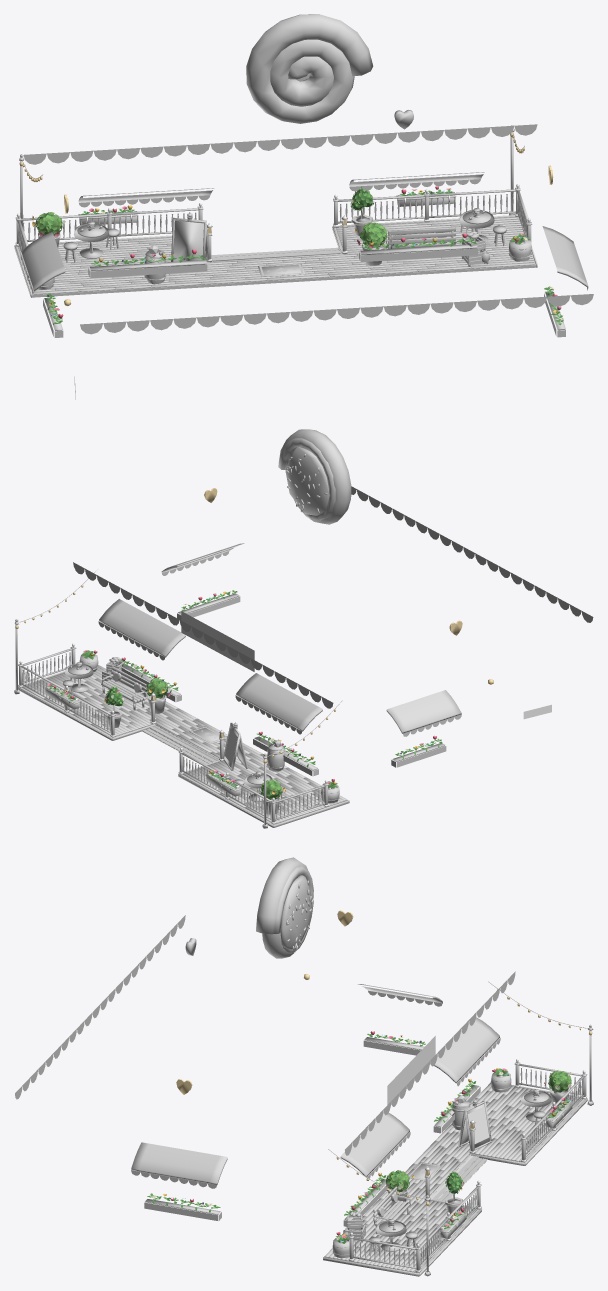
The model's file is zon_bakery_lite.glb.
3 renders of one model, top to bottom at view 1: azimuth 30°, elevation 25°; view 2: azimuth 150°, elevation 25°; view 3: azimuth 270°, elevation 25°, orthographic. The views are drawn at different scales.
Parts seen in each view (by area): view 1: SM_zon_bakery_lite_kit_bakery_xm1_z1, SM_zon_bakery_lite_vc_palette_xm1_z1, SM_zon_bakery_lite_kit_bakery_gloss_xm1_z1; view 2: SM_zon_bakery_lite_kit_bakery_xm1_z1, SM_zon_bakery_lite_vc_palette_xm1_z1, SCREEN_bld_bakery_shell_sign__0, SM_zon_bakery_lite_kit_bakery_gloss_xm1_z1; view 3: SM_zon_bakery_lite_kit_bakery_xm1_z1, SM_zon_bakery_lite_vc_palette_xm1_z1, SCREEN_bld_bakery_shell_sign__0, SM_zon_bakery_lite_kit_bakery_gloss_xm1_z1, SM_zon_bakery_lite_glow_vc_xm1_z1.
Part boxes in pixels (bbox=[...]): SM_zon_bakery_lite_kit_bakery_xm1_z1: bbox=[14, 14, 593, 337]; SM_zon_bakery_lite_vc_palette_xm1_z1: bbox=[31, 186, 563, 325]; SM_zon_bakery_lite_kit_bakery_gloss_xm1_z1: bbox=[14, 184, 537, 294]; SM_zon_bakery_lite_kit_bakery_xm1_z1: bbox=[14, 429, 593, 828]; SM_zon_bakery_lite_vc_palette_xm1_z1: bbox=[48, 590, 442, 799]; SCREEN_bld_bakery_shell_sign__0: bbox=[181, 611, 254, 671]; SM_zon_bakery_lite_kit_bakery_gloss_xm1_z1: bbox=[18, 643, 349, 825]; SM_zon_bakery_lite_kit_bakery_xm1_z1: bbox=[15, 857, 593, 1276]; SM_zon_bakery_lite_vc_palette_xm1_z1: bbox=[147, 1031, 571, 1243]; SCREEN_bld_bakery_shell_sign__0: bbox=[387, 1036, 435, 1104]; SM_zon_bakery_lite_kit_bakery_gloss_xm1_z1: bbox=[323, 1059, 587, 1274]; SM_zon_bakery_lite_glow_vc_xm1_z1: bbox=[176, 910, 592, 1205].
Bounding box in the file's own units: 19.44 × 10.68 × 19.33.
